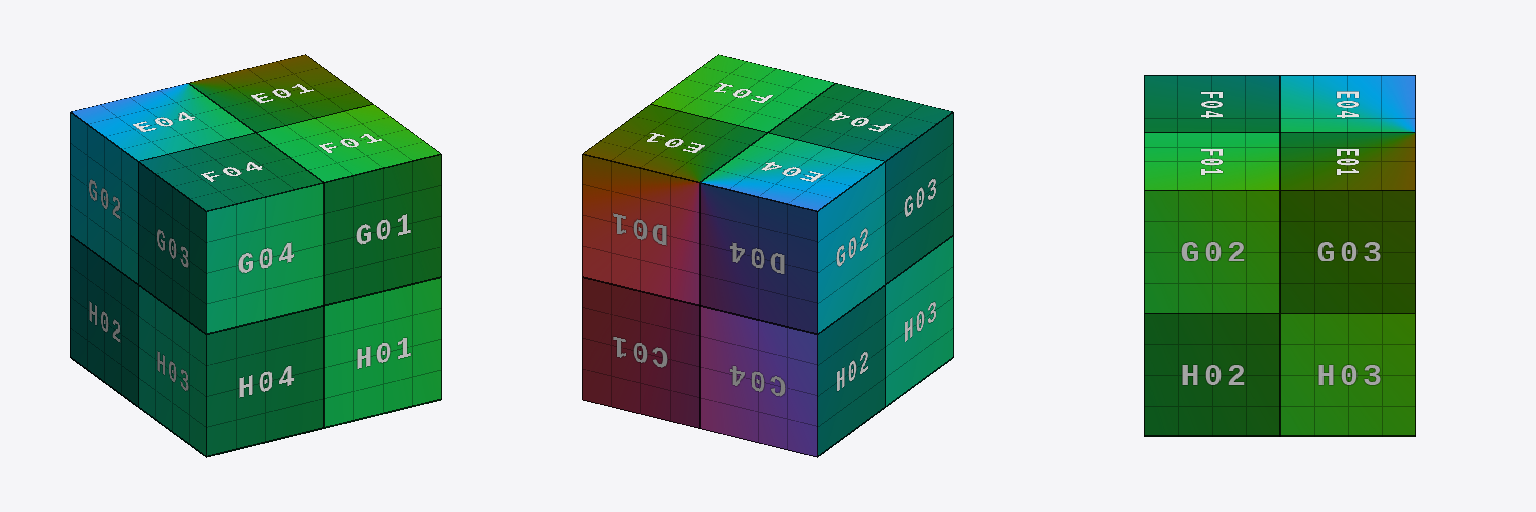
3 renders of one model, left to right at view 1: azimuth 30°, elevation 25°; view 2: azimuth 150°, elevation 25°; view 3: azimuth 270°, elevation 25°, orthographic.
Parts seen in each view (by area): view 1: Colored_Grid_Cube; view 2: Colored_Grid_Cube; view 3: Colored_Grid_Cube.
Boxes of the visible parts, <box> form: Colored_Grid_Cube: <box>70,54,441,457</box>; Colored_Grid_Cube: <box>582,54,953,457</box>; Colored_Grid_Cube: <box>1144,75,1415,436</box>.
Bounding box in the file's own units: 0.3815 × 0.3815 × 0.3815.
1 materials, 1 textured.